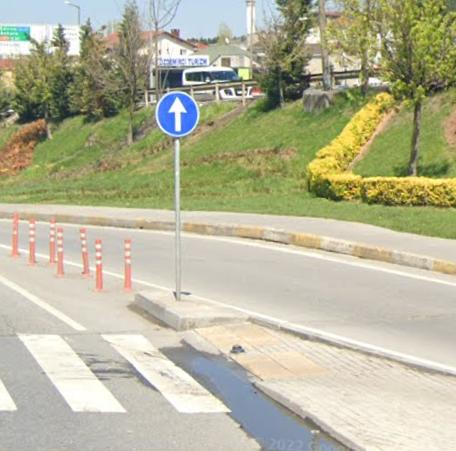forward: (155, 91, 200, 138)
